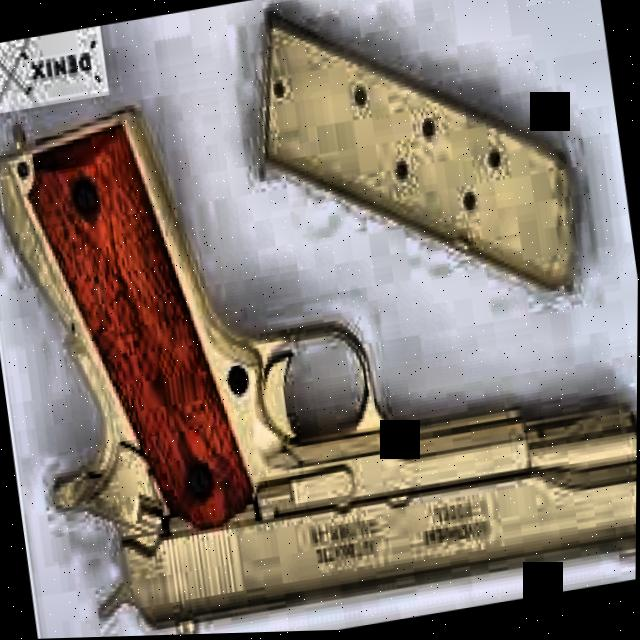Colt m1911: (0, 27, 640, 640)
